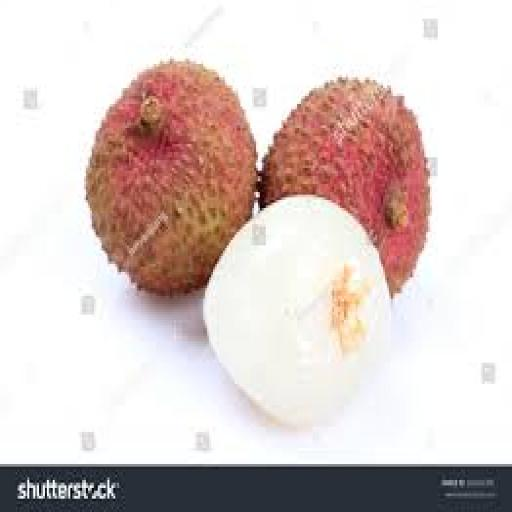lychee: (201, 192, 393, 429), (86, 62, 255, 293), (260, 80, 429, 293)
